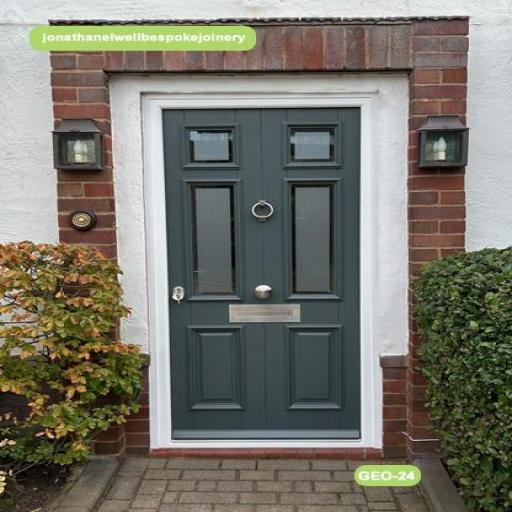door: (126, 82, 393, 452)
